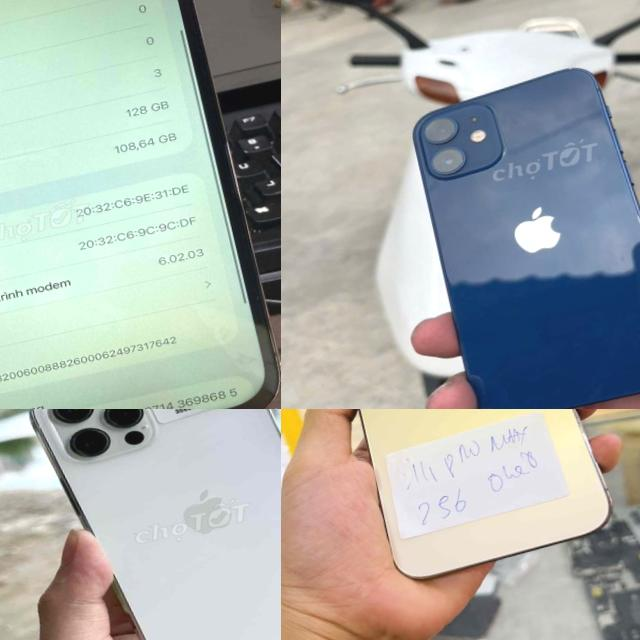gen_12_13: (0, 0, 281, 409), (383, 42, 640, 409), (0, 409, 281, 640)
gen_14: (305, 409, 626, 591)
